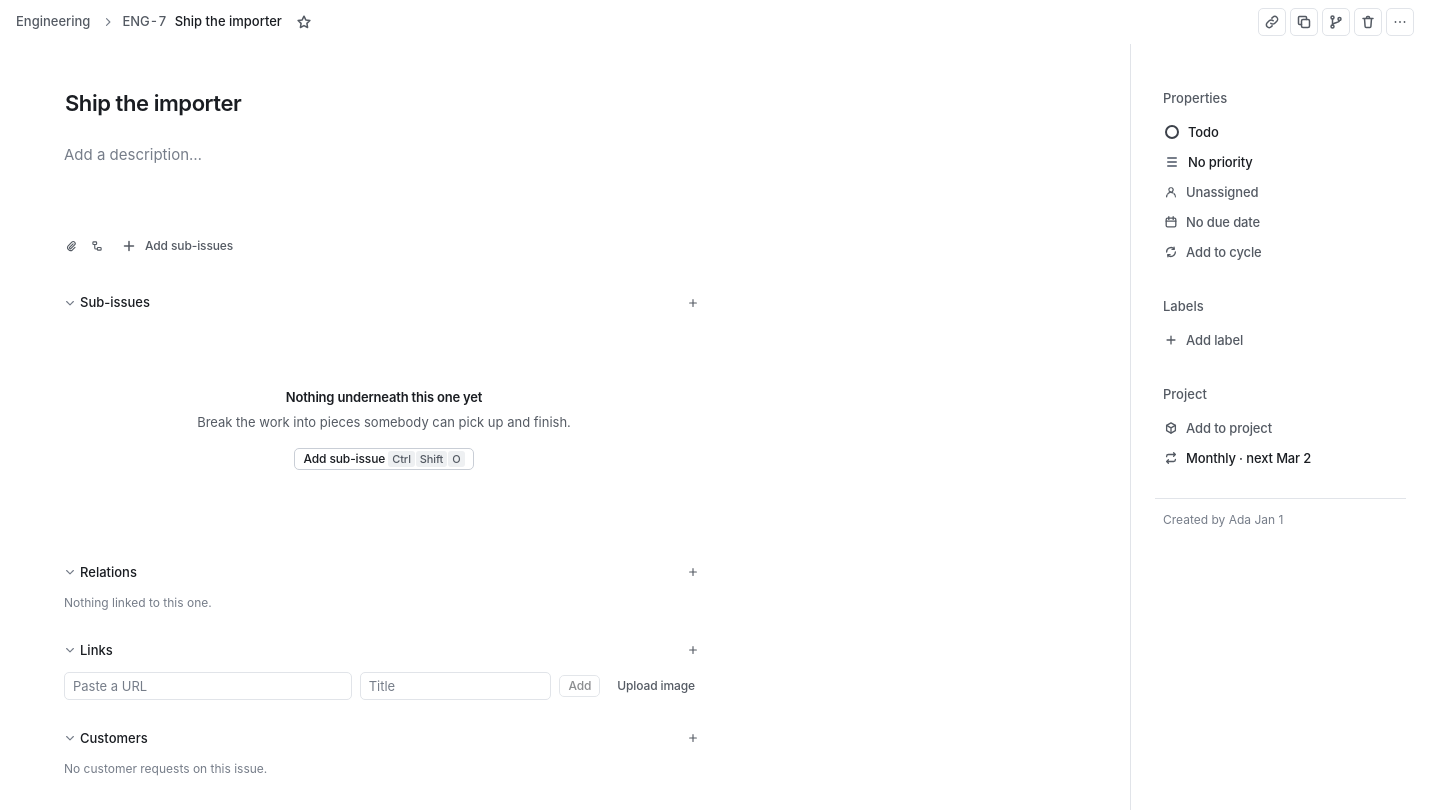
it: the Repeats row › opens the dialog seeded with the schedule it names, not with the default
The image size is (1440, 810).
Click the button "Monthly · next Mar 2".
click(1280, 458)  # box [1155,444,1406,472]
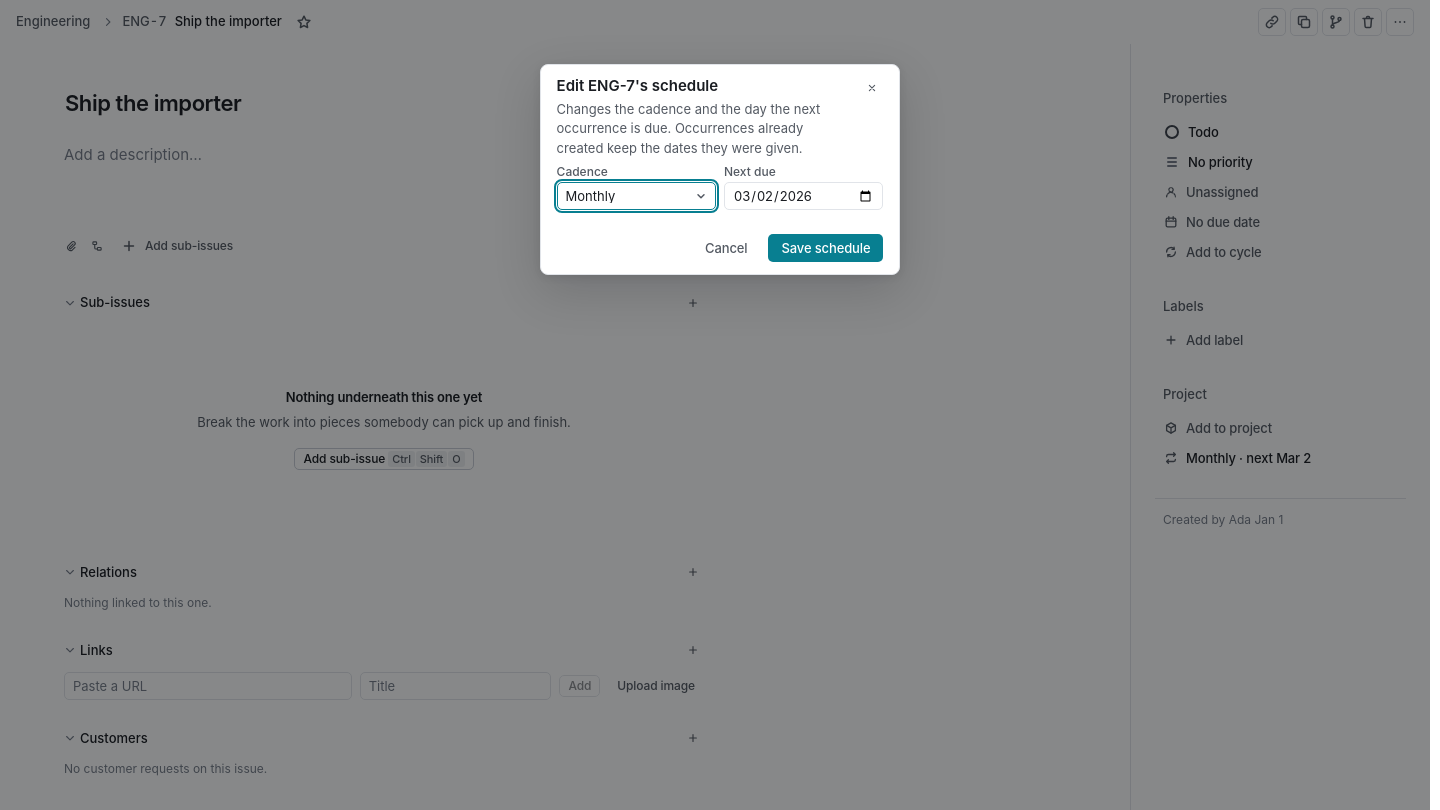
Expected: the dropdown labelled "Cadence" shows "Monthly", [558,183,715,209]
Expected: the date field labelled "Next due" holds "2026-03-02", [733,183,874,209]
